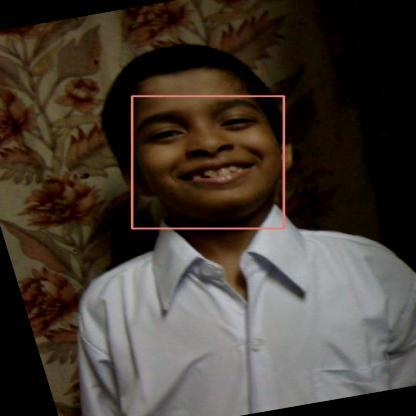without_mask: (132, 96, 284, 228)
